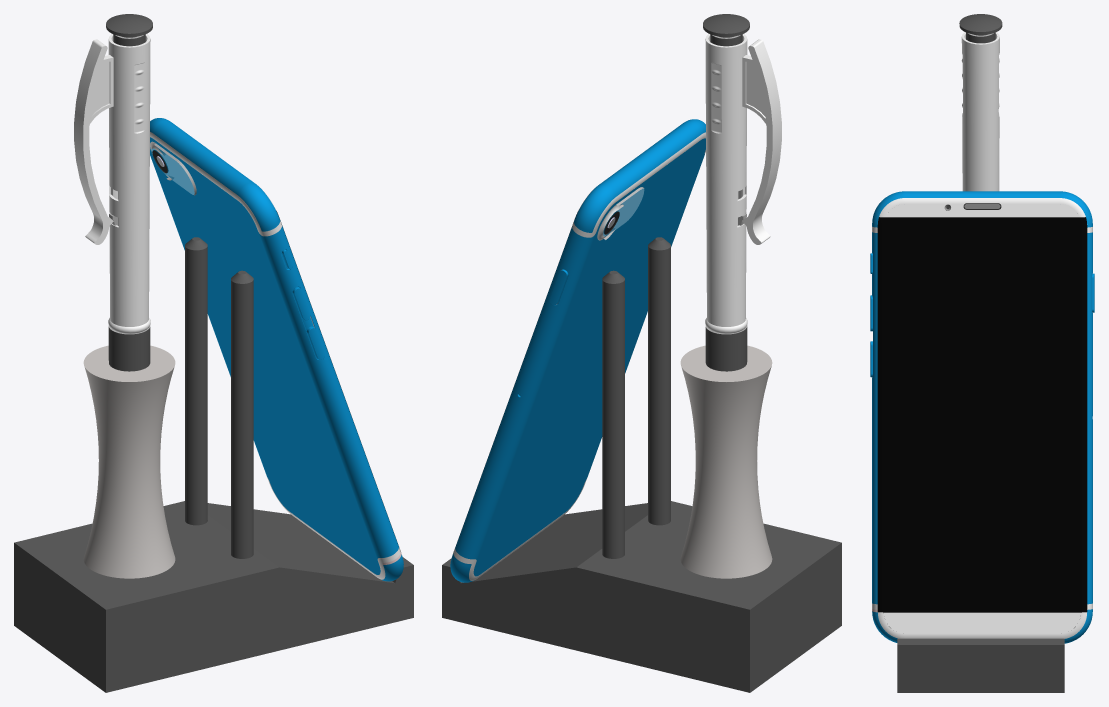
The model's file is config16.glb.
3 renders of one model, left to right at view 1: azimuth 30°, elevation 25°; view 2: azimuth 150°, elevation 25°; view 3: azimuth 270°, elevation 25°, orthographic. The views are drawn at different scales.
Parts seen in each view (by area): view 1: Socle-2, User Library-Iphone 8 v2-3, Porte stylo-1, SADC-SADC Pen_SADC 001-1, Module téléphone-2, Module téléphone-1, SADC-SADC Pen_SADC 002-2, SADC-SADC Pen_SADC 005-1; view 2: Socle-2, User Library-Iphone 8 v2-3, Porte stylo-1, SADC-SADC Pen_SADC 001-1, Module téléphone-1, Module téléphone-2, SADC-SADC Pen_SADC 002-2, SADC-SADC Pen_SADC 005-1; view 3: User Library-Iphone 8 v2-3, Socle-2, SADC-SADC Pen_SADC 001-1, SADC-SADC Pen_SADC 005-1.
Part boxes in pixels (x1,y1,x2,y2): Socle-2: [14, 501, 413, 692]; User Library-Iphone 8 v2-3: [150, 118, 403, 581]; Porte stylo-1: [83, 345, 175, 578]; SADC-SADC Pen_SADC 001-1: [74, 34, 150, 333]; Module téléphone-2: [185, 237, 207, 525]; Module téléphone-1: [231, 270, 253, 558]; SADC-SADC Pen_SADC 002-2: [108, 325, 150, 371]; SADC-SADC Pen_SADC 005-1: [106, 14, 152, 225]; Socle-2: [442, 501, 841, 692]; User Library-Iphone 8 v2-3: [450, 119, 705, 582]; Porte stylo-1: [680, 345, 772, 578]; SADC-SADC Pen_SADC 001-1: [705, 34, 781, 333]; Module téléphone-1: [648, 237, 670, 525]; Module téléphone-2: [602, 270, 624, 558]; SADC-SADC Pen_SADC 002-2: [705, 325, 747, 371]; SADC-SADC Pen_SADC 005-1: [703, 14, 749, 225]; User Library-Iphone 8 v2-3: [870, 191, 1094, 643]; Socle-2: [897, 638, 1064, 692]; SADC-SADC Pen_SADC 001-1: [961, 32, 999, 191]; SADC-SADC Pen_SADC 005-1: [959, 14, 1002, 43].
Size of the model in its own units: 0.0984 by 0.1899 by 0.068.
41 materials, 1 textured.
